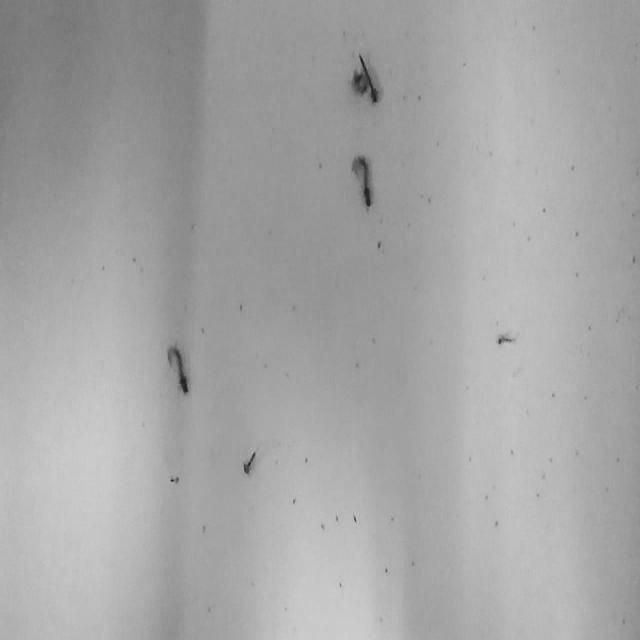larvas: (351, 154, 372, 208), (166, 344, 188, 394), (360, 52, 377, 100), (242, 447, 260, 475), (352, 68, 368, 94), (496, 333, 518, 343)
